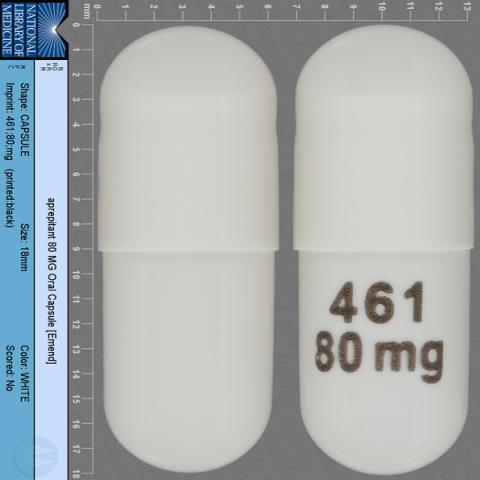Pill: (87, 18, 286, 480), (290, 18, 480, 477)
